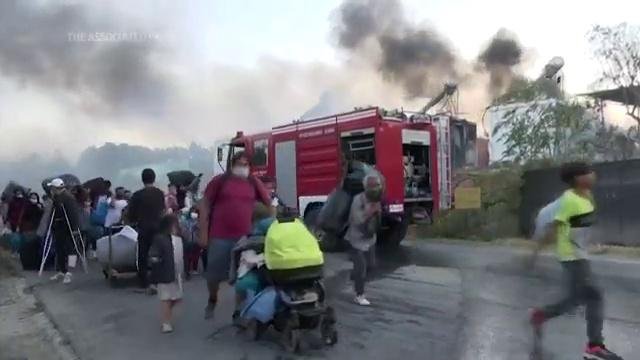smoke: (11, 18, 168, 88), (365, 18, 443, 85)
